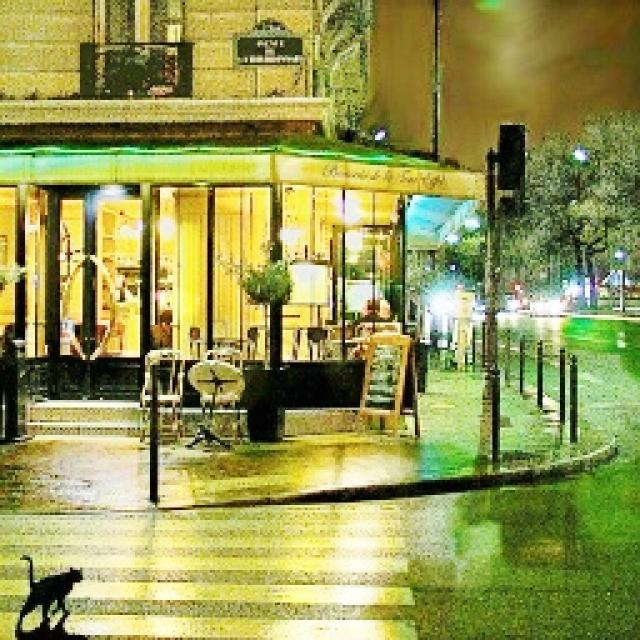cat: (0, 542, 106, 640)
